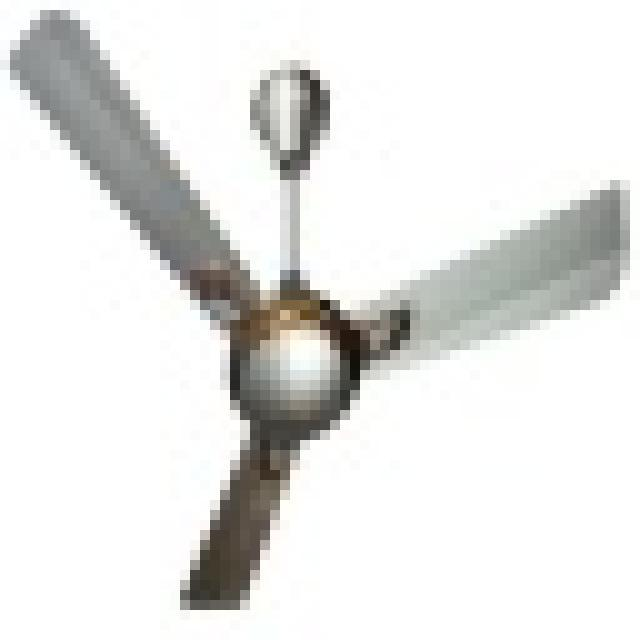fan_off: (8, 10, 628, 605)
